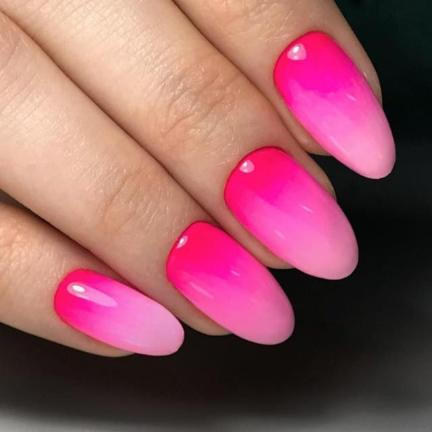Nail: (274, 31, 396, 179), (224, 147, 359, 280), (165, 221, 295, 346), (53, 269, 185, 355)
